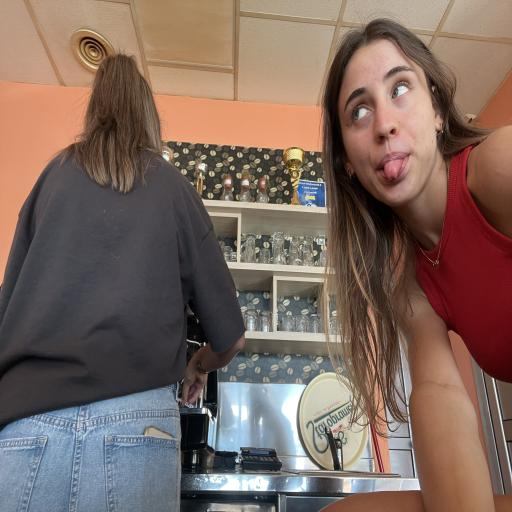masa: (337, 38, 437, 207)
